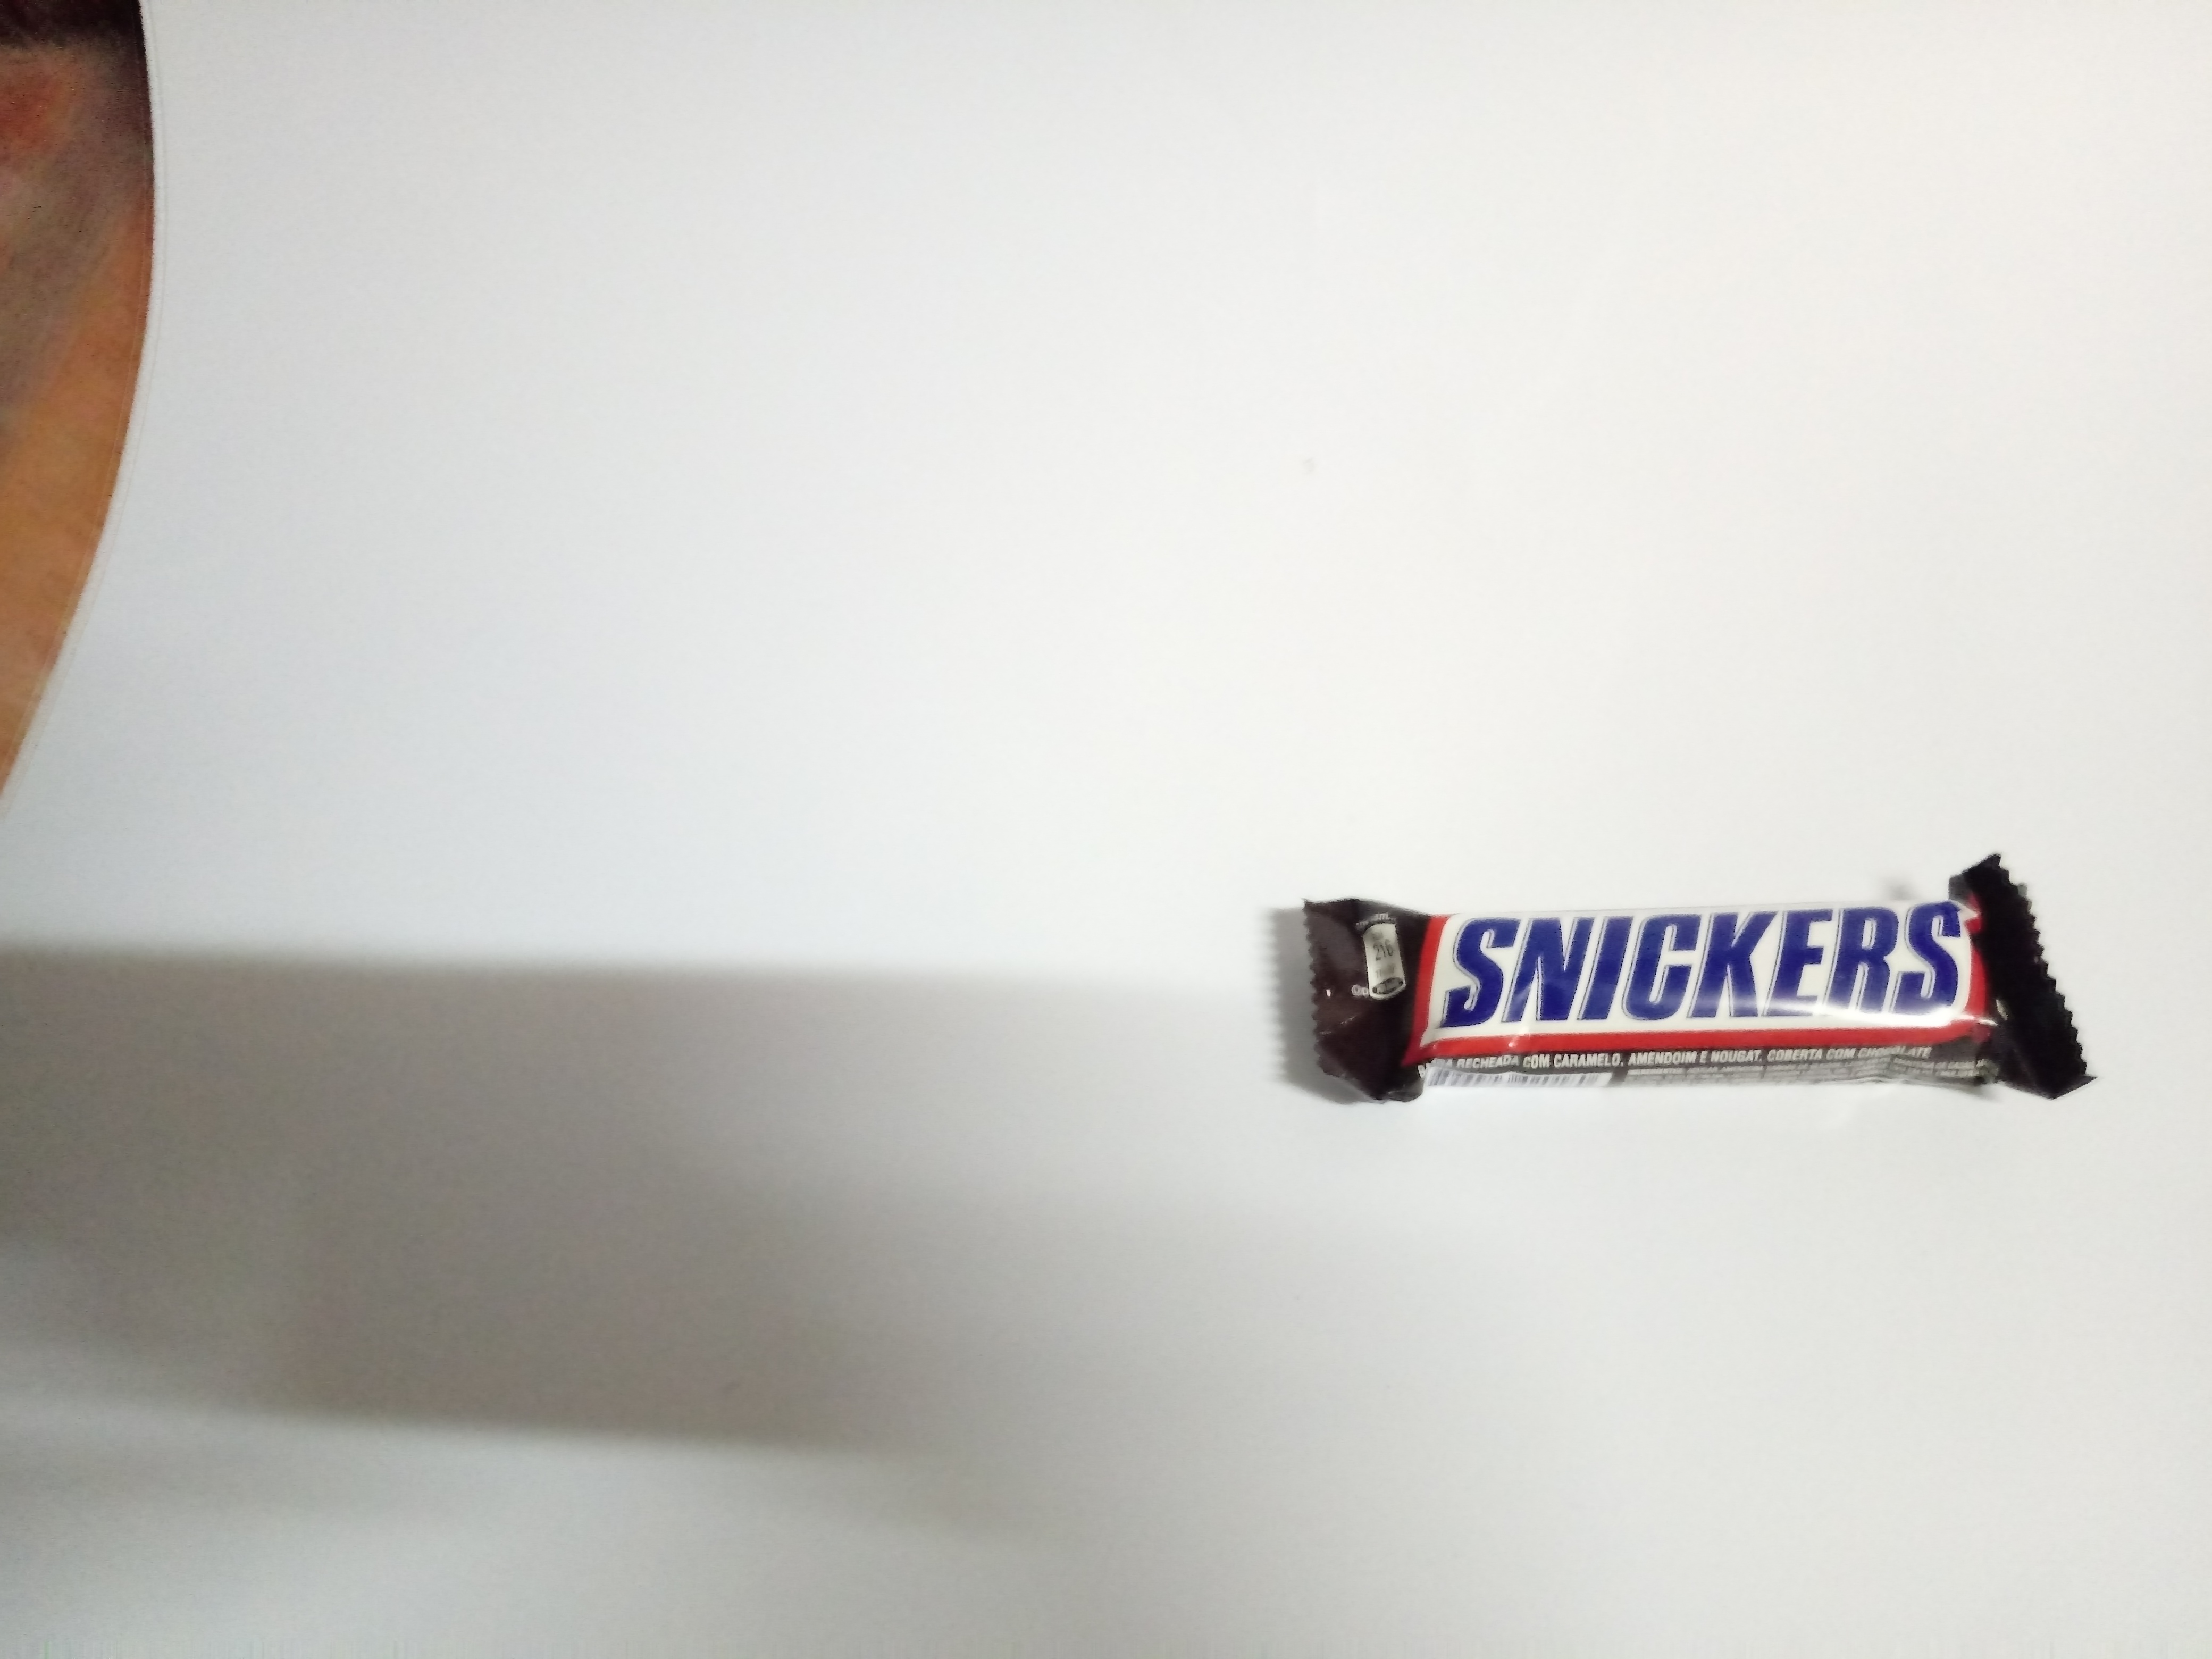snickers: (1275, 836, 2104, 1110)
